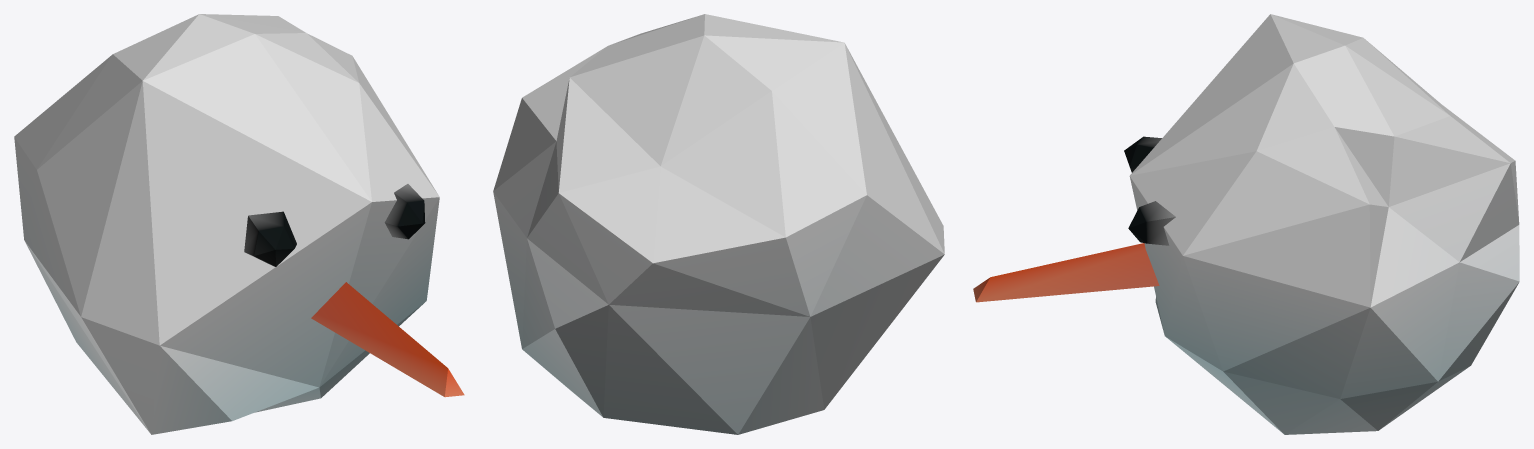
Rendered from sm_snow_man_head.fbx.
The picture shows the model from 3 angles, left to right: view 1: azimuth 30°, elevation 25°; view 2: azimuth 150°, elevation 25°; view 3: azimuth 270°, elevation 25°; orthographic projection. The views are drawn at different scales.
Parts seen in each view (by area): view 1: sm_snow_man_head; view 2: sm_snow_man_head; view 3: sm_snow_man_head.
Part boxes in pixels (x1=…): sm_snow_man_head: x1=14, y1=14, x2=464, y2=434; sm_snow_man_head: x1=493, y1=14, x2=944, y2=434; sm_snow_man_head: x1=973, y1=14, x2=1519, y2=434.
Size of the model in its own units: 75.19 by 76.69 by 106.
